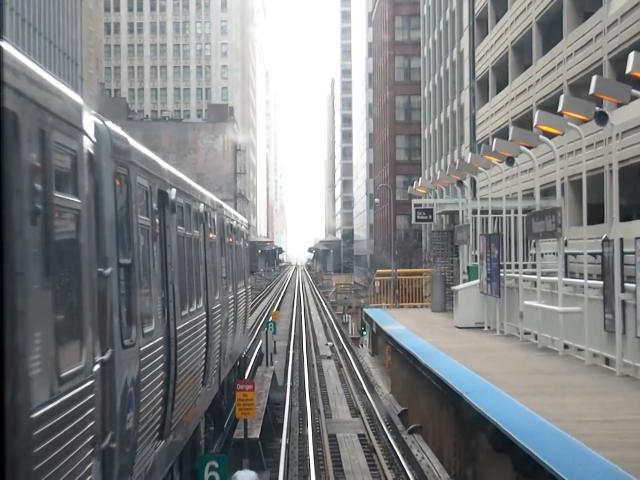signal light: (362, 323, 368, 340)
